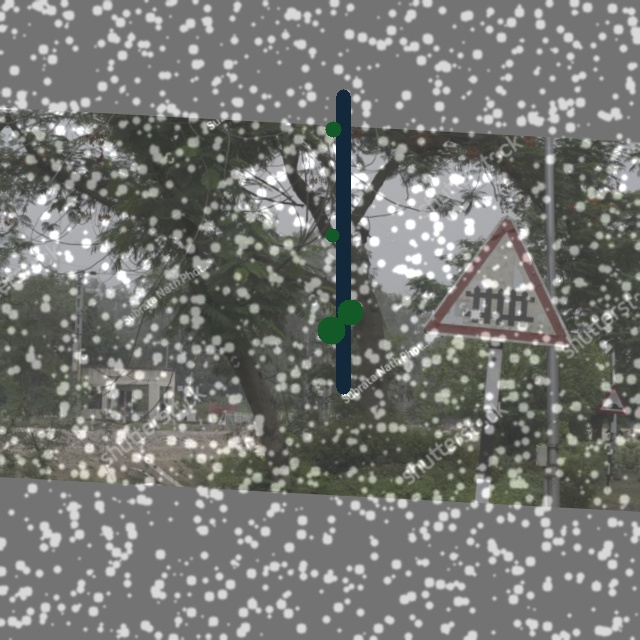Guarded_Level_Crossing: (428, 209, 574, 347)
